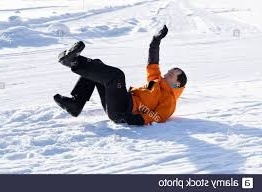fall: (53, 24, 192, 129)
